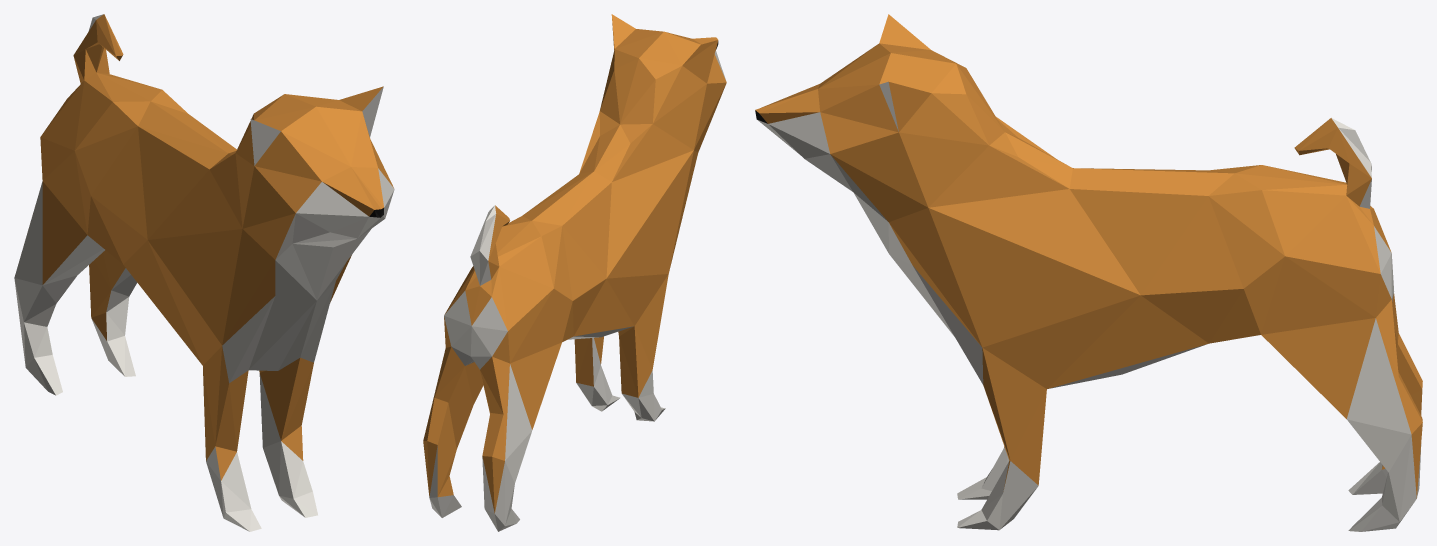
The model's file is dog.fbx.
3 views of the same model, side by side, from view 1: azimuth 30°, elevation 25°; view 2: azimuth 150°, elevation 25°; view 3: azimuth 270°, elevation 25° (orthographic). The views are drawn at different scales.
Parts seen in each view (by area): view 1: Cube_001; view 2: Cube_001; view 3: Cube_001.
Boxes of the visible parts, x1=… form: Cube_001: x1=14, y1=14, x2=394, y2=531; Cube_001: x1=423, y1=14, x2=726, y2=531; Cube_001: x1=755, y1=14, x2=1422, y2=531.
Size of the model in its own units: 86.58 by 276 by 361.
